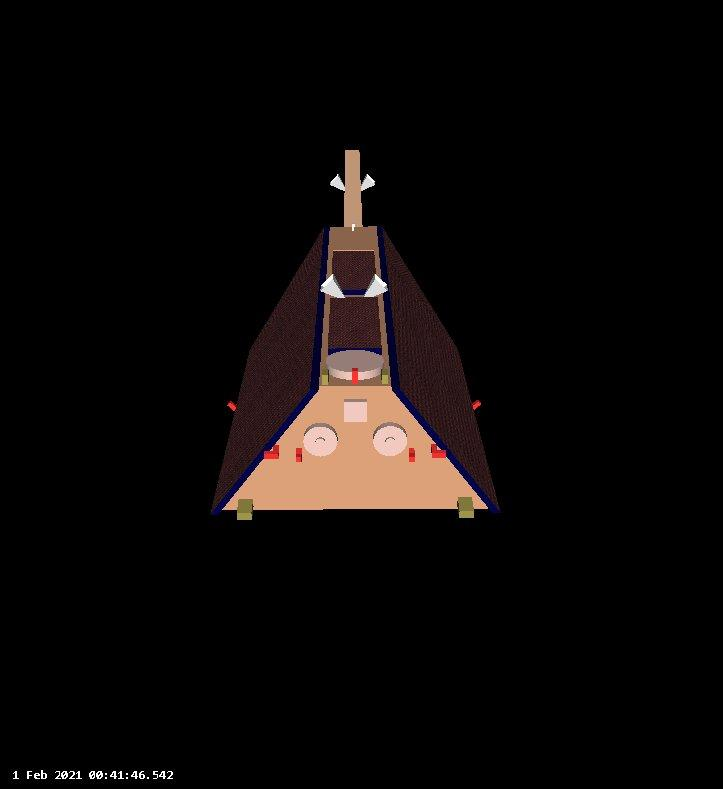antenna: (341, 148, 364, 226)
body: (207, 222, 508, 515)
solar: (380, 226, 505, 515), (208, 224, 330, 516), (326, 295, 384, 353), (329, 248, 378, 295)
thruster: (316, 273, 348, 300), (364, 273, 390, 300), (359, 171, 380, 191), (328, 172, 347, 193)
